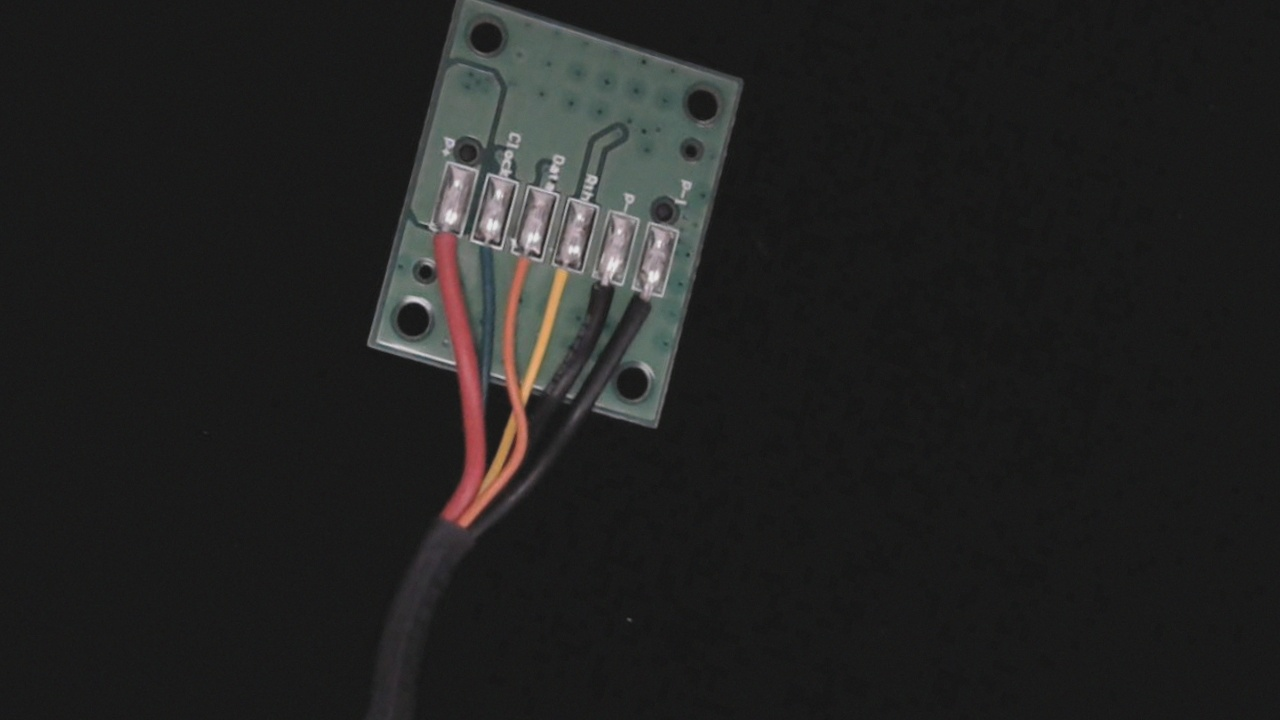Black: (571, 257, 632, 346)
Black1: (613, 271, 671, 354)
Green: (455, 218, 510, 292)
Orange: (492, 231, 550, 319)
Red: (416, 206, 471, 281)
Yellow: (531, 243, 593, 334)
